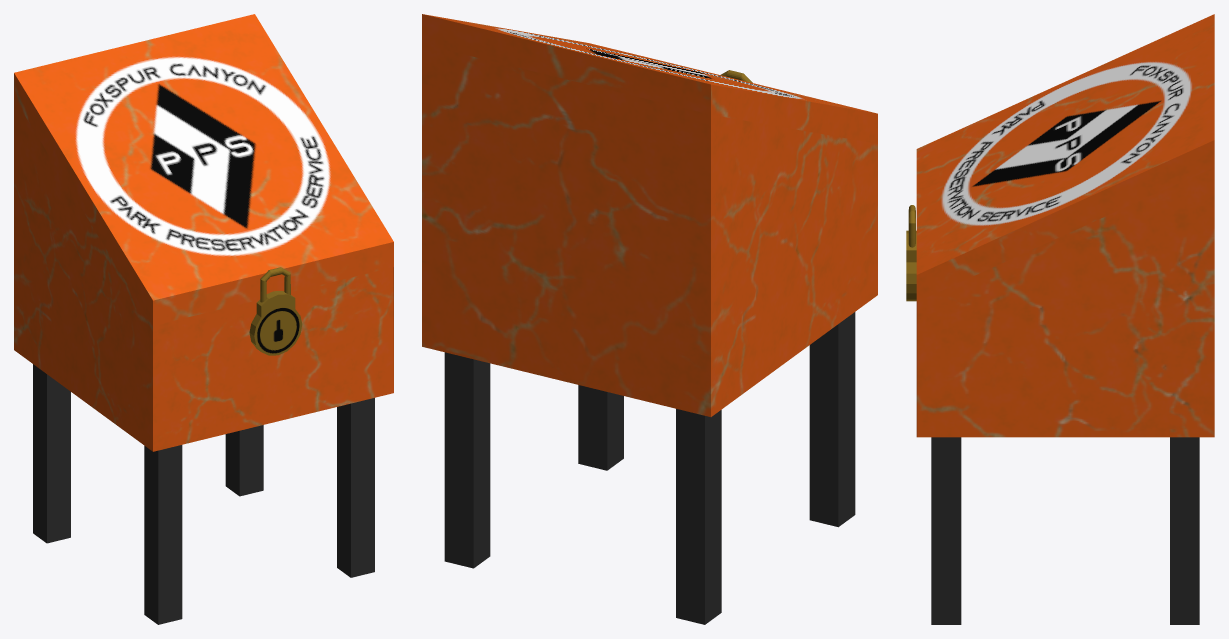
The model's file is mod_structure_lockbox.fbx.
3 renders of one model, left to right at view 1: azimuth 30°, elevation 25°; view 2: azimuth 150°, elevation 25°; view 3: azimuth 270°, elevation 25°, orthographic. The views are drawn at different scales.
Visible parts, largest first — view 1: mesh_lid, mesh_main, mesh_legs, mesh_lock_Main; view 2: mesh_main, mesh_legs, mesh_lid; view 3: mesh_main, mesh_lid, mesh_legs, mesh_lock_Main.
Part boxes in pixels (box(x1,y1,x2,y2)): mesh_lid: box(14, 14, 393, 325); mesh_main: box(14, 98, 393, 451); mesh_legs: box(33, 364, 374, 624); mesh_lock_Main: box(249, 291, 302, 355); mesh_main: box(422, 44, 877, 416); mesh_legs: box(444, 312, 855, 624); mesh_lid: box(422, 14, 877, 143); mesh_main: box(916, 167, 1214, 437); mesh_lid: box(916, 14, 1214, 301); mesh_legs: box(931, 437, 1199, 624); mesh_lock_Main: box(906, 230, 916, 301).
Size of the model in its own units: 200 by 364 by 207.
